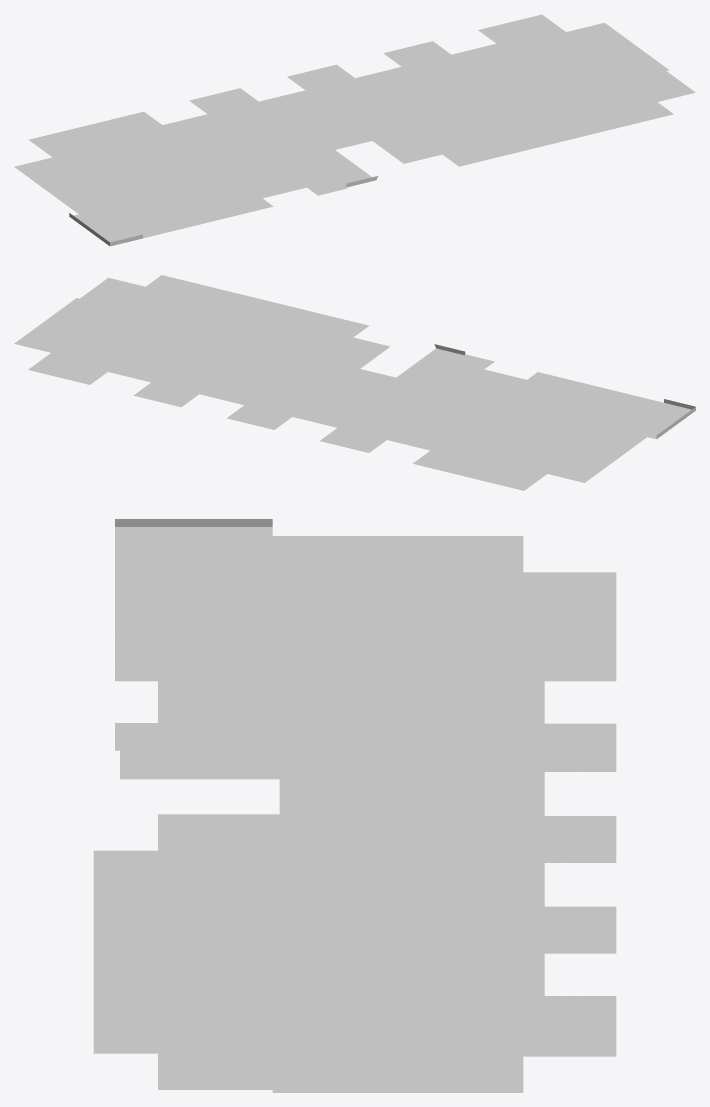
The model's file is Strop_5NP.obj.
3 views of the same model, one above another, from view 1: azimuth 30°, elevation 25°; view 2: azimuth 150°, elevation 25°; view 3: azimuth 270°, elevation 25° (orthographic). The views are drawn at different scales.
Parts seen in each view (by area): view 1: Strop_5NP; view 2: Strop_5NP; view 3: Strop_5NP.
Boxes of the visible parts, bbox=[...] form: Strop_5NP: bbox=[14, 14, 695, 246]; Strop_5NP: bbox=[14, 275, 695, 490]; Strop_5NP: bbox=[93, 519, 616, 1092].
Bounding box in the file's own units: 3.45 × 0.0221 × 1.34.
1 material, 1 textured.
